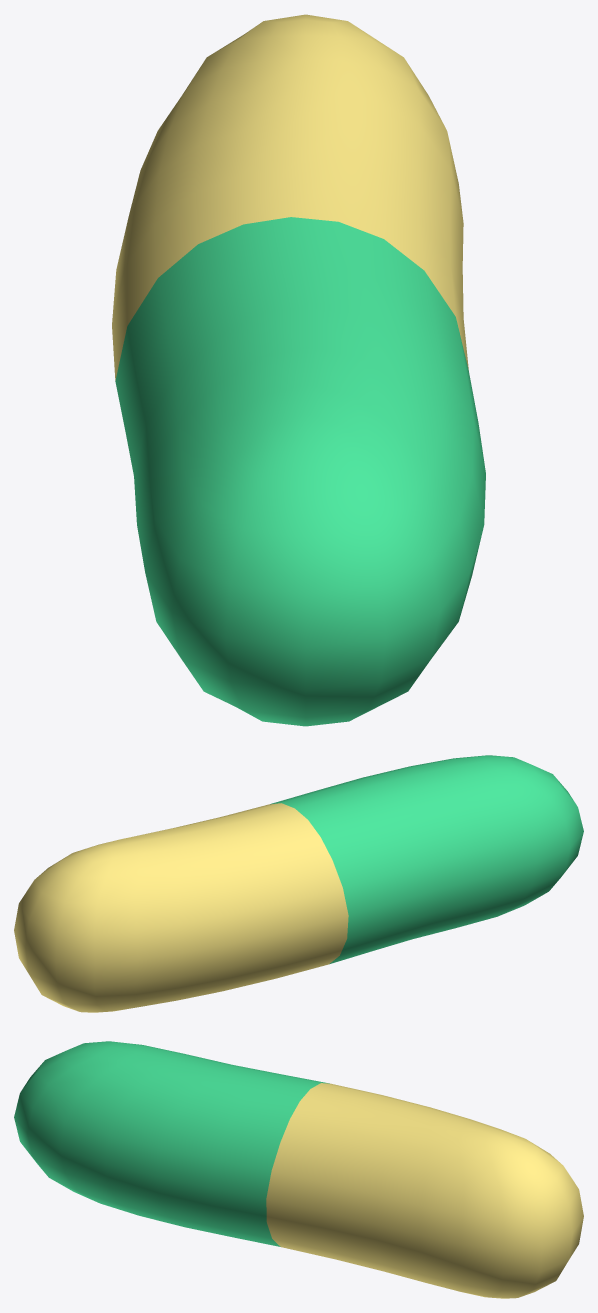
The model's file is Gummy_B_01.fbx.
3 views of the same model, one above another, from view 1: azimuth 30°, elevation 25°; view 2: azimuth 150°, elevation 25°; view 3: azimuth 270°, elevation 25° (orthographic). The views are drawn at different scales.
Visible parts, largest first — view 1: Gummy_B_01_LOD0; view 2: Gummy_B_01_LOD0; view 3: Gummy_B_01_LOD0.
Part boxes in pixels (x1=…): Gummy_B_01_LOD0: x1=112, y1=14, x2=485, y2=726; Gummy_B_01_LOD0: x1=14, y1=755, x2=583, y2=1012; Gummy_B_01_LOD0: x1=14, y1=1041, x2=583, y2=1298.
Size of what is drawn, in the model's own units: 411 by 185 by 601.
